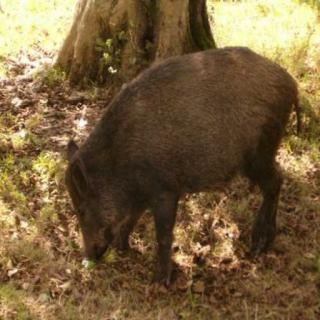Pig: (33, 42, 320, 284)
